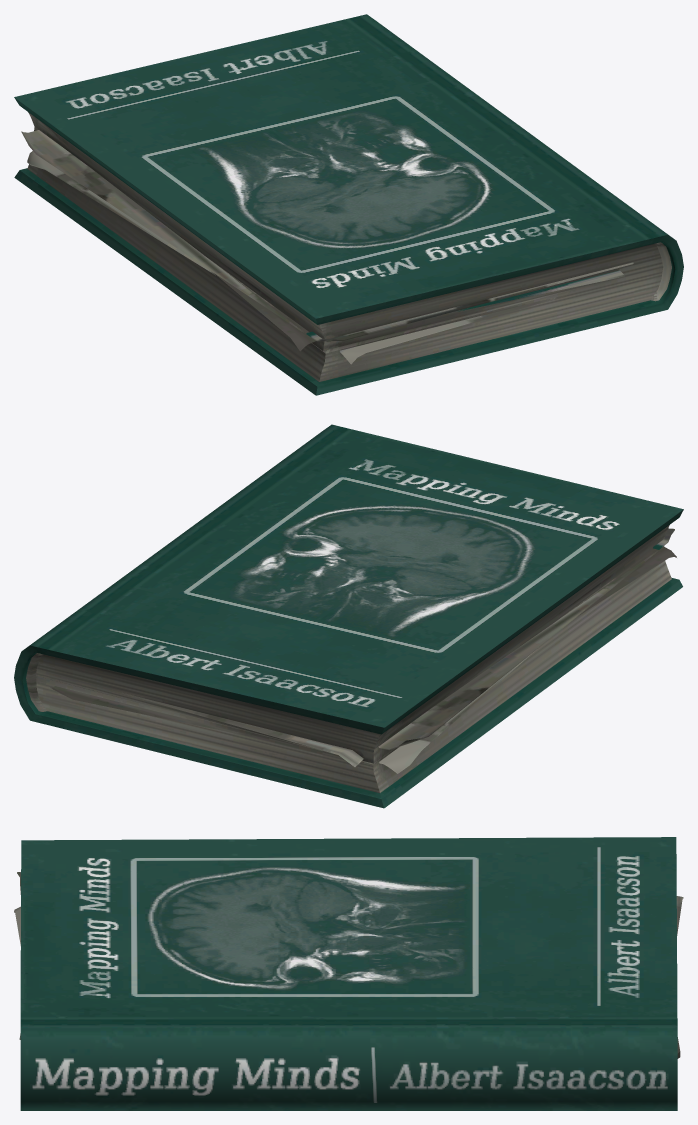
The model's file is book_brain01.dae.
3 views of the same model, one above another, from view 1: azimuth 30°, elevation 25°; view 2: azimuth 150°, elevation 25°; view 3: azimuth 270°, elevation 25° (orthographic). The views are drawn at different scales.
Visible parts, largest first — view 1: book_politics; view 2: book_politics; view 3: book_politics.
Boxes of the visible parts, x1,y1,x2,y2 form: book_politics: [14, 14, 683, 395]; book_politics: [14, 424, 683, 808]; book_politics: [14, 837, 683, 1110].
Size of the model in its own units: 0.1841 by 0.0373 by 0.2577.
